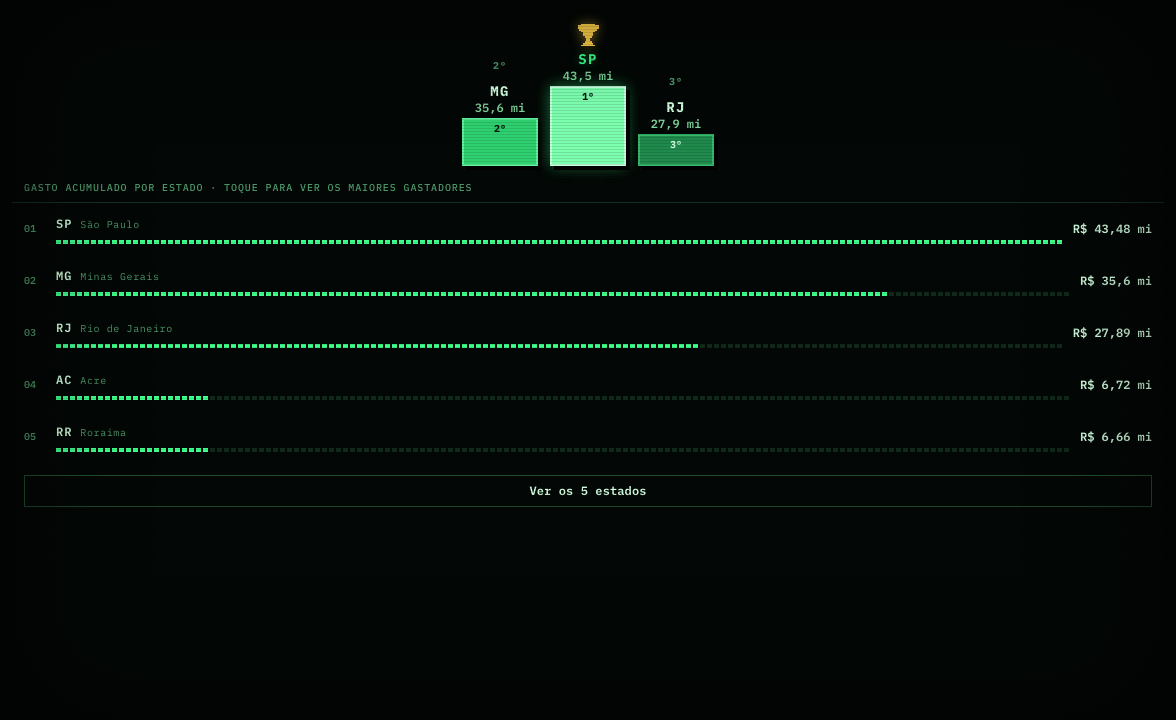
Test case: UfPainel — pódio e mapa pixel › mobile não renderiza o mapa: mostra ranking por estado em lista
Click the button "01 SP São Paulo R$ 43,48 mi": click(110, 225) top-left (12, 203), bottom-right (1164, 255)
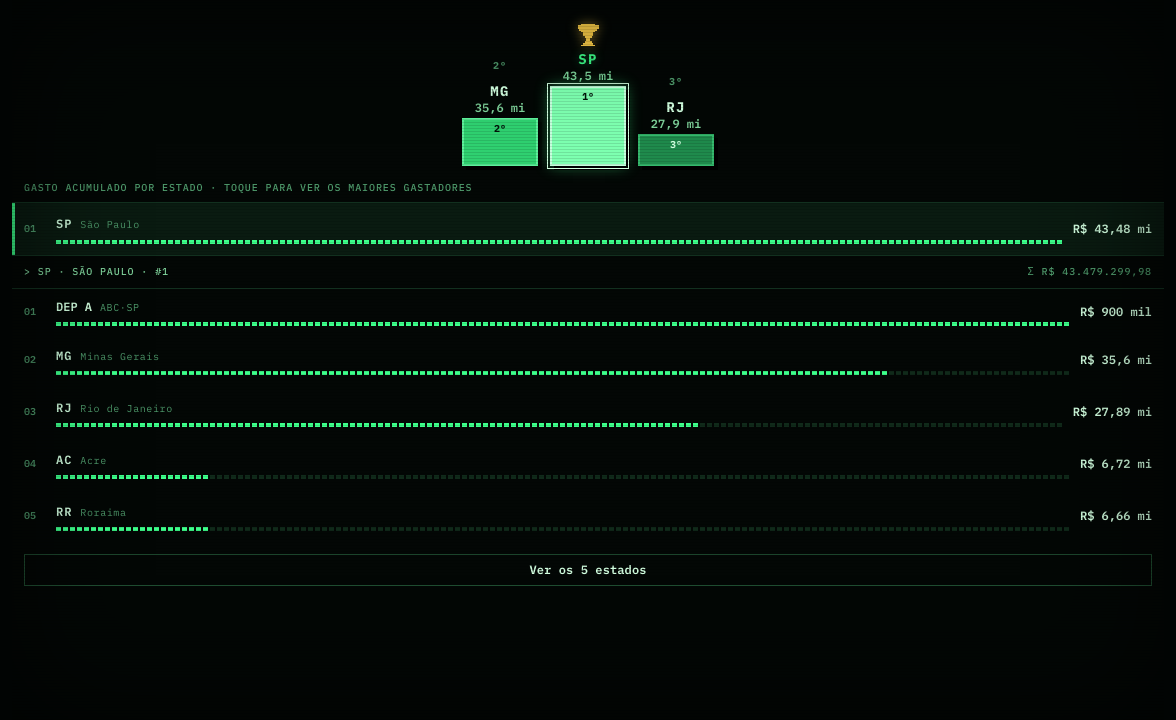
Expected: the text "DEP A" is shown, top-left (56, 297), bottom-right (92, 316)
